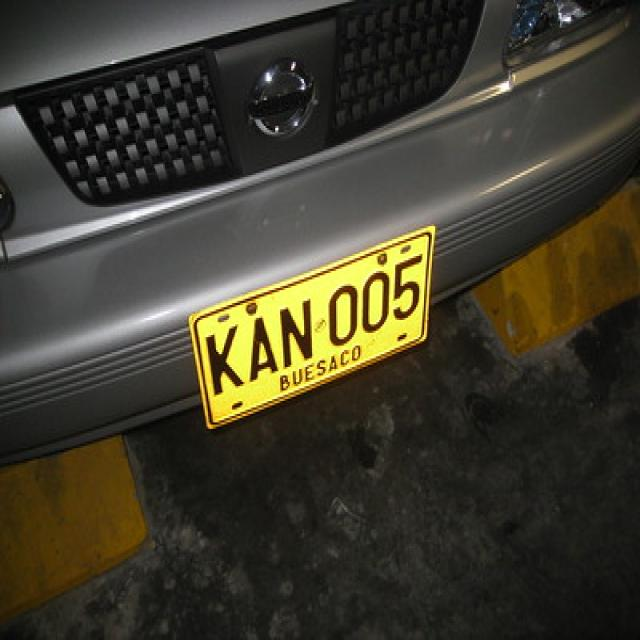placa_carro: (186, 220, 435, 440)
